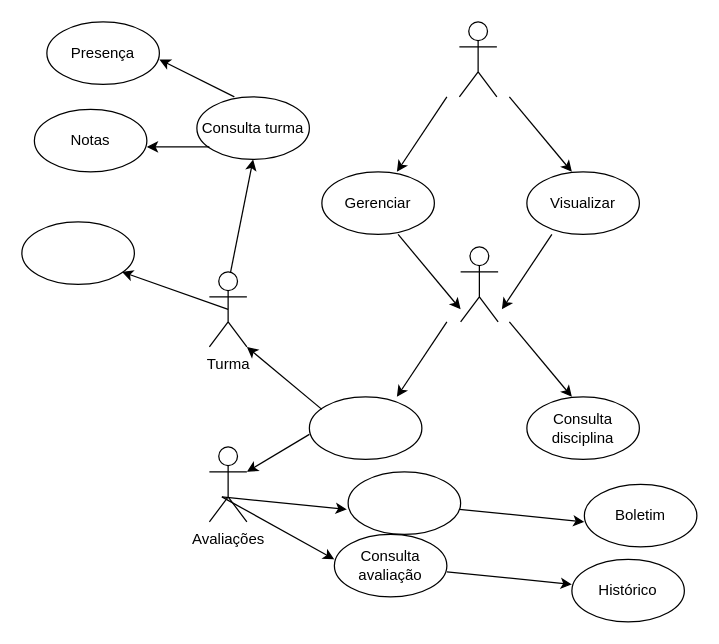
Image size: 719x644. Some labels were removed from this diagram. The shapes that lost their labels are listed below. From the top down, each one's centre as x and y in pixels, then its label:
the point at 477,59: Usuário
the point at 77,252: Nova turma
the point at 478,284: Disciplinas
the point at 365,427: Nova Disciplina
the point at 404,502: Nova avaiação
